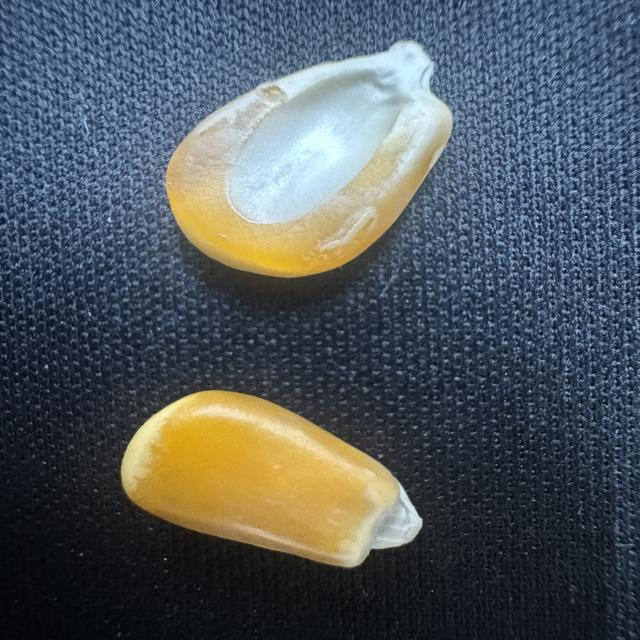Good-Seed: (160, 36, 458, 282), (117, 384, 429, 571)
